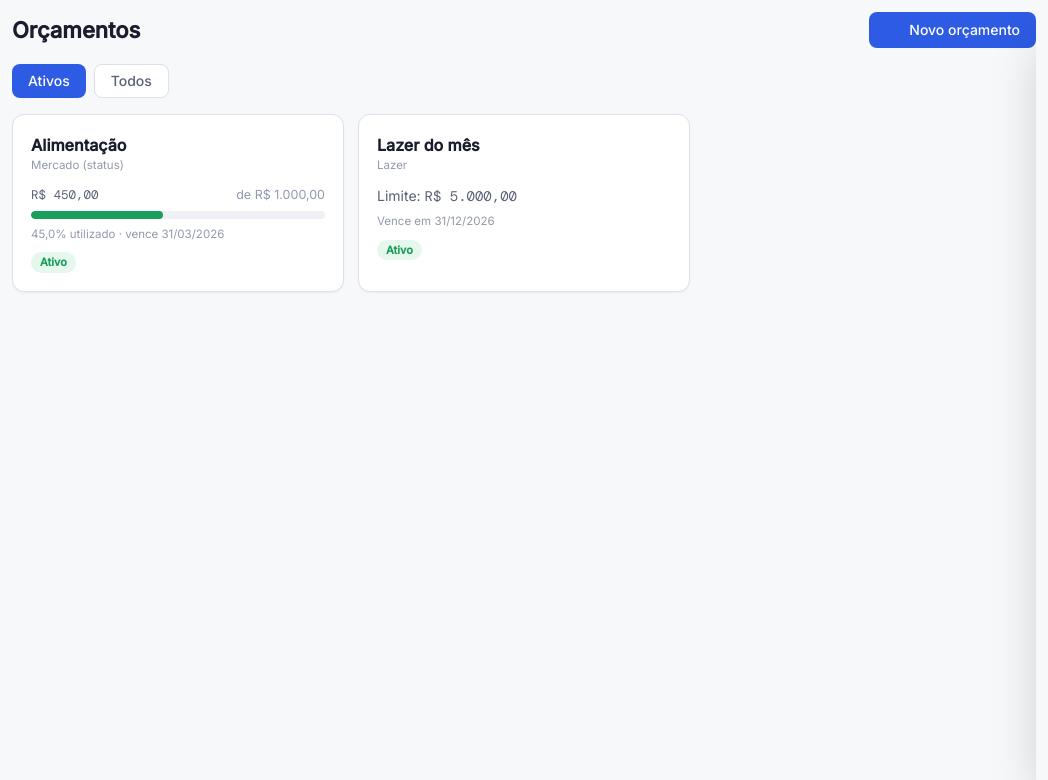
Orcamentos › listagem › mostra só os ativos por padrão e todos ao trocar o filtro
Expected: the text "Alimentação" is shown, [31,133,126,157]
Expected: the text "Lazer do mês" is shown, [377,133,480,157]
Click the button "Todos": click(131, 81) [94,64,169,98]
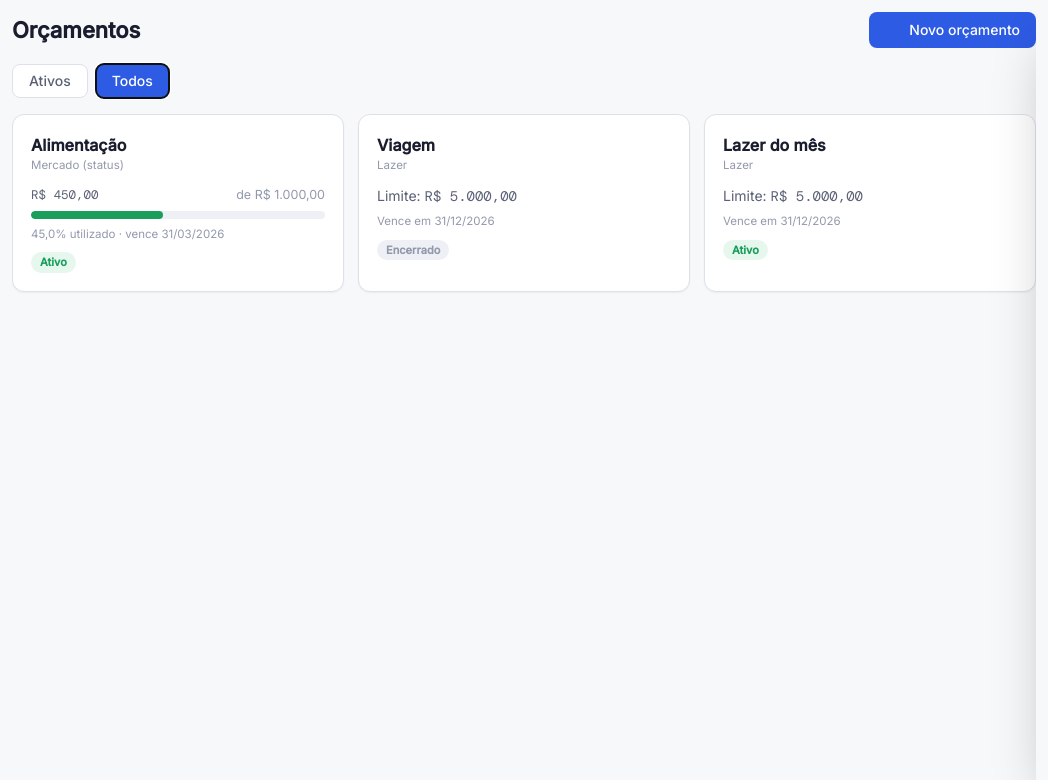
Now the text "Viagem" is shown, box [377,133,435,157]
Now the text "Viagem" shows "Encerrado", box [386,242,440,256]
Click the button "Ativos": click(50, 81) [12,64,88,98]
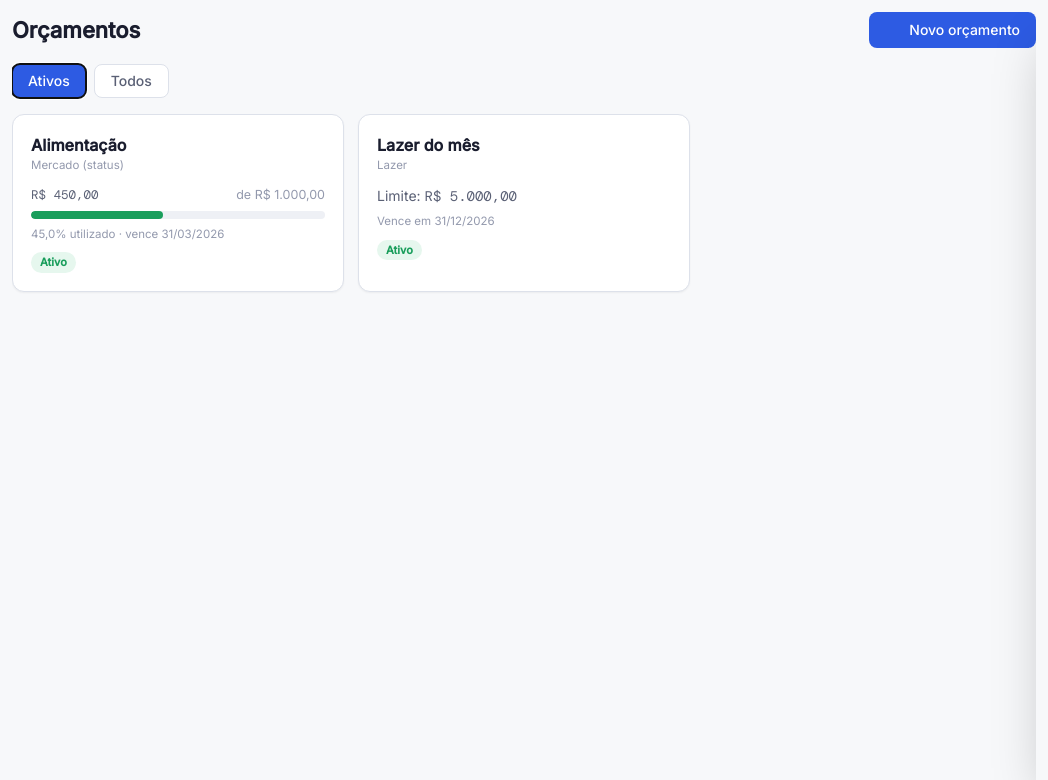
Now the text "Viagem" is gone
